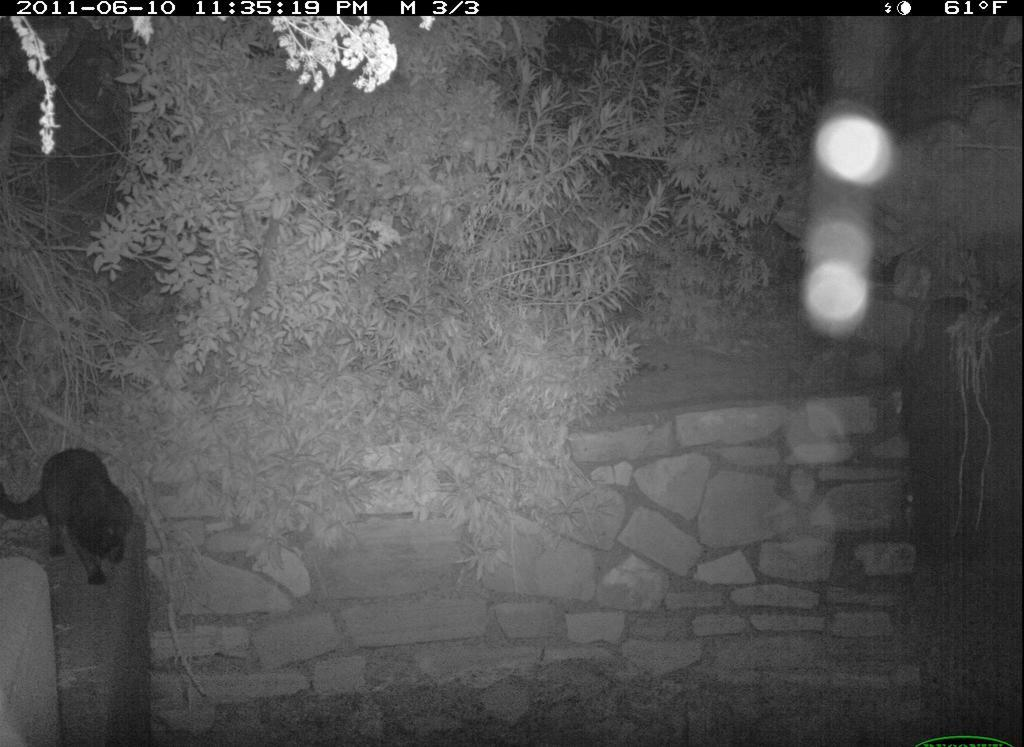cat: (1, 443, 144, 592)
